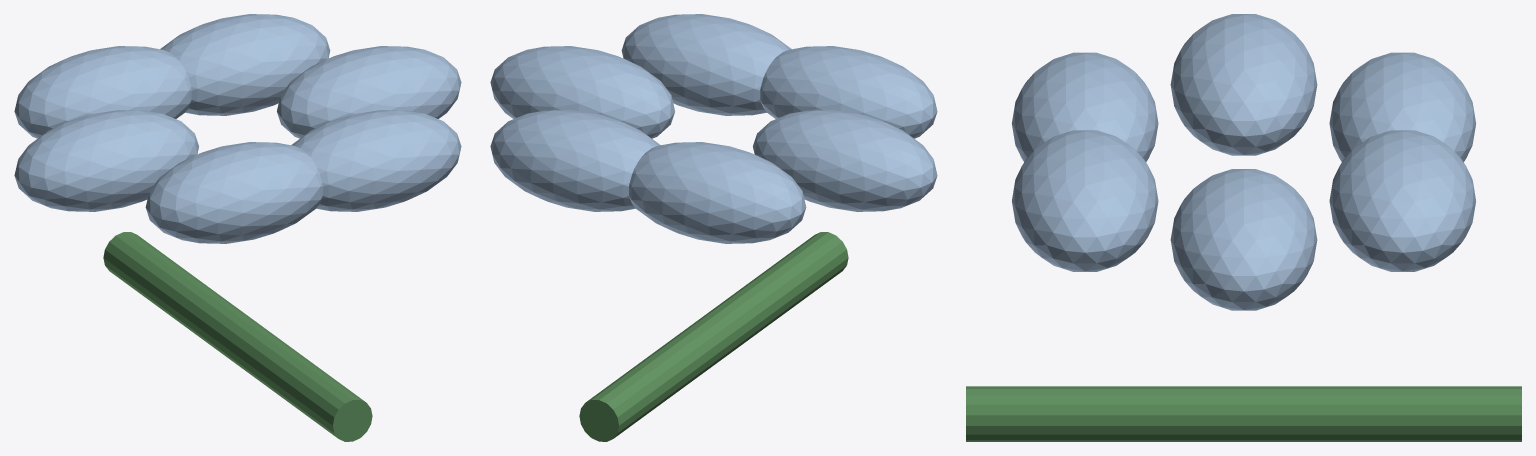
File: flower-blue.glb
3 views of the same model, side by side, from view 1: azimuth 30°, elevation 25°; view 2: azimuth 150°, elevation 25°; view 3: azimuth 270°, elevation 25° (orthographic). The views are drawn at different scales.
Visible parts, largest first — view 1: world; view 2: world; view 3: world.
Part boxes in pixels (x1=…): world: x1=14, y1=14, x2=461, y2=441; world: x1=490, y1=14, x2=937, y2=441; world: x1=966, y1=14, x2=1521, y2=441.
Size of the model in its own units: 1.1 by 0.649 by 1.
